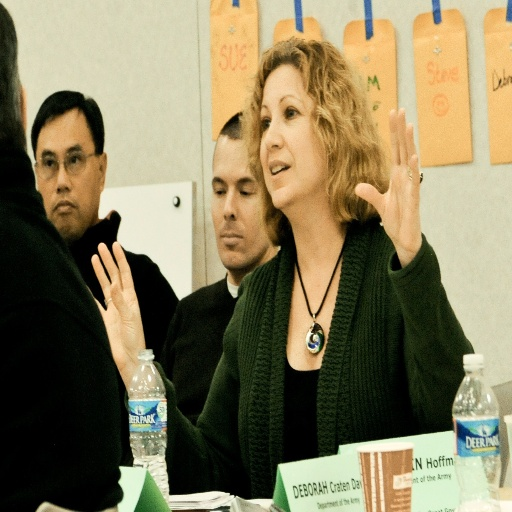hand: (82, 218, 153, 419), (353, 102, 423, 254)
